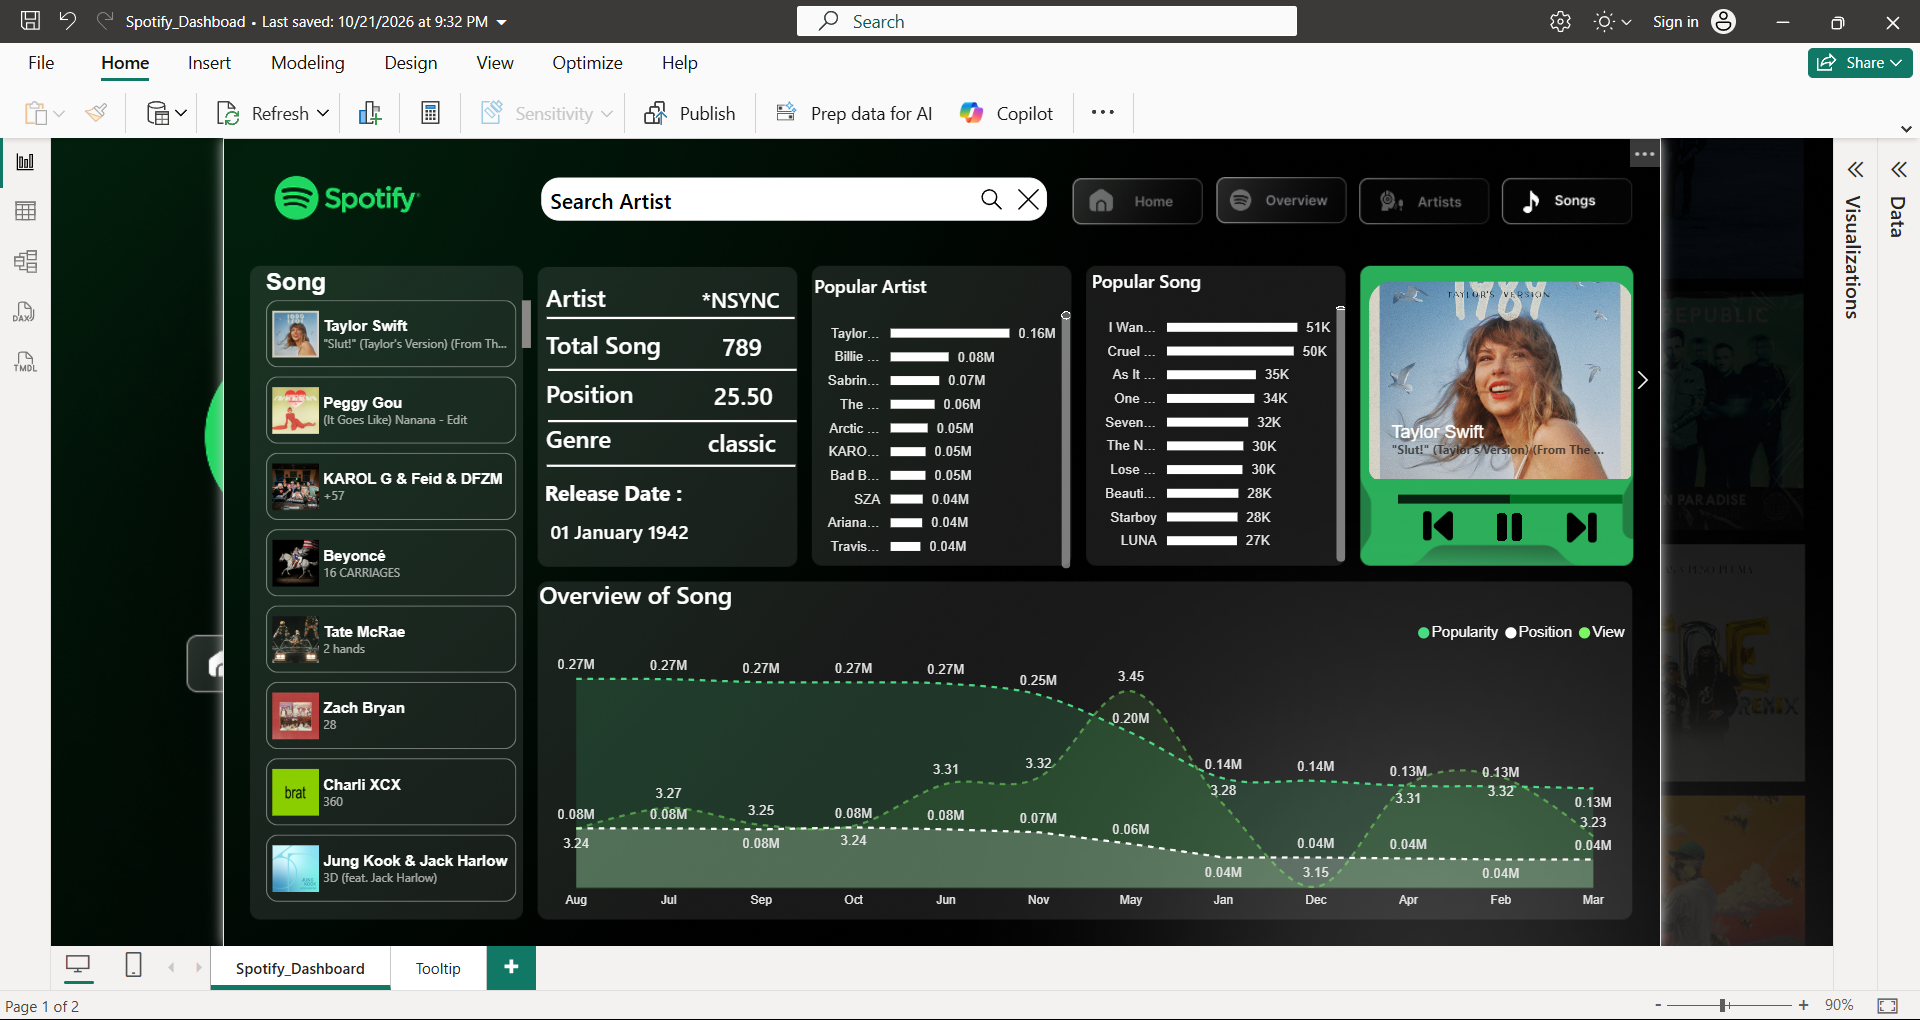

The dashboard page shown, as its layout file describes it:
{"tool":"powerbi","page":{"name":"Spotify_Dashboard","canvas":[1280,720],"ordinal":0},"visuals":[{"type":"card","fields":{"Values":["_Measures.Distinct Songs"]},"box":[406.5,126.9,102.1,60.5],"z":0,"group":"g1"},{"type":"actionButton","box":[223.7,426.3,115.8,44.5],"z":0},{"type":"card","fields":{"Values":["Count(Top-50-world.artist)"]},"box":[407.3,190.4,104.8,60.5],"z":1000,"group":"g1"},{"type":"actionButton","box":[352.9,428.6,116.9,42.3],"z":1000},{"type":"card","fields":{"Values":["_Measures.Avg Duration Minutes"]},"box":[407.3,251.4,103.4,61.9],"z":2000,"group":"g1"},{"type":"actionButton","box":[480,430,116,41.3],"z":2000},{"type":"actionButton","box":[62.7,206.3,576.7,153.2],"z":3000},{"type":"card","fields":{"Values":["_Measures.Avg Popularity"]},"box":[405.3,313.5,106.1,60.5],"z":3000,"group":"g1"},{"type":"shape","box":[8.9,0,1271.2,719.1],"z":4000},{"type":"image","box":[286.6,134.7,53,41.3],"z":4000,"group":"g1"},{"type":"image","box":[295,313.4,54.4,52.3],"z":5000,"group":"g1"},{"type":"image","box":[289.3,196.5,61.2,48.4],"z":6000,"group":"g1"},{"type":"image","box":[286.1,259.5,58.4,48.1],"z":7000,"group":"g1"},{"type":"image","box":[8.9,0,1271.2,709.1],"z":32000},{"type":"actionButton","box":[753.2,35.2,117.5,42.6],"z":33000},{"type":"actionButton","box":[881.3,33.2,116.7,41.9],"z":34000},{"type":"actionButton","box":[1137.9,34.5,116.6,41.7],"z":35000},{"type":"clusteredBarChart","title":" Popular Song","fields":{"Category":["Top-50-world.song"],"Y":["Sum(Top-50-world.popularity)"]},"box":[768.4,115.4,224.7,261.9],"z":36000},{"type":"clusteredBarChart","title":"Popular Artist","fields":{"Category":["Top-50-world.artist"],"Y":["Sum(Top-50-world.popularity)"]},"box":[526.4,115.7,228.4,263.2],"z":37000},{"type":"hundredPercentStackedBarChart","fields":{"Y":["_Measures.Avg Popularity","Avg(Top-50-world.popularity)"]},"box":[1036,281.4,200,54.7],"z":38000},{"type":"image","box":[1115.8,322.1,40.4,29.9],"z":39000},{"type":"image","box":[1180.4,322.2,40.1,30.1],"z":40000},{"type":"image","box":[1026,320.6,91.2,29.9],"z":41000},{"type":"advancedSlicerVisual","title":"Song","fields":{"Label":["_Measures.Distinct Artists"],"Values":["Top-50-world.song"]},"box":[996.5,111.6,280.2,188.4],"z":42000},{"type":"lineChart","title":"Artists Overview","fields":{"Category":["Top-50-world.Month","Top-50-world.artist"],"Y":["Avg(Top-50-world.duration_ms)"],"Y2":["_Measures.Avg Popularity"]},"box":[582.7,402,672.4,292.1],"z":43000},{"type":"shape","box":[1009.3,110.5,245.3,266.3],"z":44000},{"type":"actionButton","box":[46.2,34.1,149.6,49.5],"z":45000},{"type":"group","id":"g1","title":"Group 1","box":[286.1,126.9,226,247.1],"z":53000},{"type":"advancedSlicerVisual","title":"Song ","fields":{"Label":["_Measures.Distinct Artists"],"Values":["Top-50-world.song"]},"box":[33.4,115.8,246.7,573.3],"z":83000},{"type":"textSearchSlicerF85E2E78BE4A4D7D9F99ED75B5D71C85","fields":{"fields":["Top-50-world.artist"]},"box":[273.6,25.7,470.2,55.2],"z":84000},{"type":"shape","box":[525,111.7,115,36.7],"z":88000},{"type":"shape","box":[768.3,115,115,36.7],"z":89000},{"type":"shape","box":[1099,224.1,178.6,36.2],"z":90000},{"type":"shape","box":[816.7,511.7,118.3,31.7],"z":95000},{"type":"shape","box":[816.7,330,131.7,33.3],"z":96000},{"type":"funnel","title":"Song Genre","fields":{"Category":["Top-50-world.genre"],"Y":["CountNonNull(Top-50-world.song)"]},"box":[295,401.9,281.6,286.1],"z":97000},{"type":"actionButton","box":[572.6,402,170.6,43.4],"z":102000},{"type":"shape","box":[282,393.3,179.3,36.2],"z":112000}]}

Visuals, with their boxes on the page's 1280x720 design canvas (x1, y1, x2, y2). These are canvas units, not pixel positions in the 1920x1020 screenshot, which may show the page scaled, cropped or inside an application window:
card - _Measures.Distinct Songs: (x1=406, y1=127, x2=509, y2=187)
actionButton: (x1=224, y1=426, x2=340, y2=471)
card - Count(Top-50-world.artist): (x1=407, y1=190, x2=512, y2=251)
actionButton: (x1=353, y1=429, x2=470, y2=471)
card - _Measures.Avg Duration Minutes: (x1=407, y1=251, x2=511, y2=313)
actionButton: (x1=480, y1=430, x2=596, y2=471)
actionButton: (x1=63, y1=206, x2=639, y2=360)
card - _Measures.Avg Popularity: (x1=405, y1=314, x2=511, y2=374)
shape: (x1=9, y1=0, x2=1280, y2=719)
image: (x1=287, y1=135, x2=340, y2=176)
image: (x1=295, y1=313, x2=349, y2=366)
image: (x1=289, y1=196, x2=350, y2=245)
image: (x1=286, y1=260, x2=344, y2=308)
image: (x1=9, y1=0, x2=1280, y2=709)
actionButton: (x1=753, y1=35, x2=871, y2=78)
actionButton: (x1=881, y1=33, x2=998, y2=75)
actionButton: (x1=1138, y1=34, x2=1254, y2=76)
" Popular Song" clusteredBarChart: (x1=768, y1=115, x2=993, y2=377)
"Popular Artist" clusteredBarChart: (x1=526, y1=116, x2=755, y2=379)
hundredPercentStackedBarChart - _Measures.Avg Popularity x Avg(Top-50-world.popularity): (x1=1036, y1=281, x2=1236, y2=336)
image: (x1=1116, y1=322, x2=1156, y2=352)
image: (x1=1180, y1=322, x2=1220, y2=352)
image: (x1=1026, y1=321, x2=1117, y2=350)
"Song" advancedSlicerVisual: (x1=996, y1=112, x2=1277, y2=300)
"Artists Overview" lineChart: (x1=583, y1=402, x2=1255, y2=694)
shape: (x1=1009, y1=110, x2=1255, y2=377)
actionButton: (x1=46, y1=34, x2=196, y2=84)
"Group 1" group: (x1=286, y1=127, x2=512, y2=374)
"Song " advancedSlicerVisual: (x1=33, y1=116, x2=280, y2=689)
textSearchSlicerF85E2E78BE4A4D7D9F99ED75B5D71C85 - Top-50-world.artist: (x1=274, y1=26, x2=744, y2=81)
shape: (x1=525, y1=112, x2=640, y2=148)
shape: (x1=768, y1=115, x2=883, y2=152)
shape: (x1=1099, y1=224, x2=1278, y2=260)
shape: (x1=817, y1=512, x2=935, y2=543)
shape: (x1=817, y1=330, x2=948, y2=363)
"Song Genre" funnel: (x1=295, y1=402, x2=577, y2=688)
actionButton: (x1=573, y1=402, x2=743, y2=445)
shape: (x1=282, y1=393, x2=461, y2=430)
